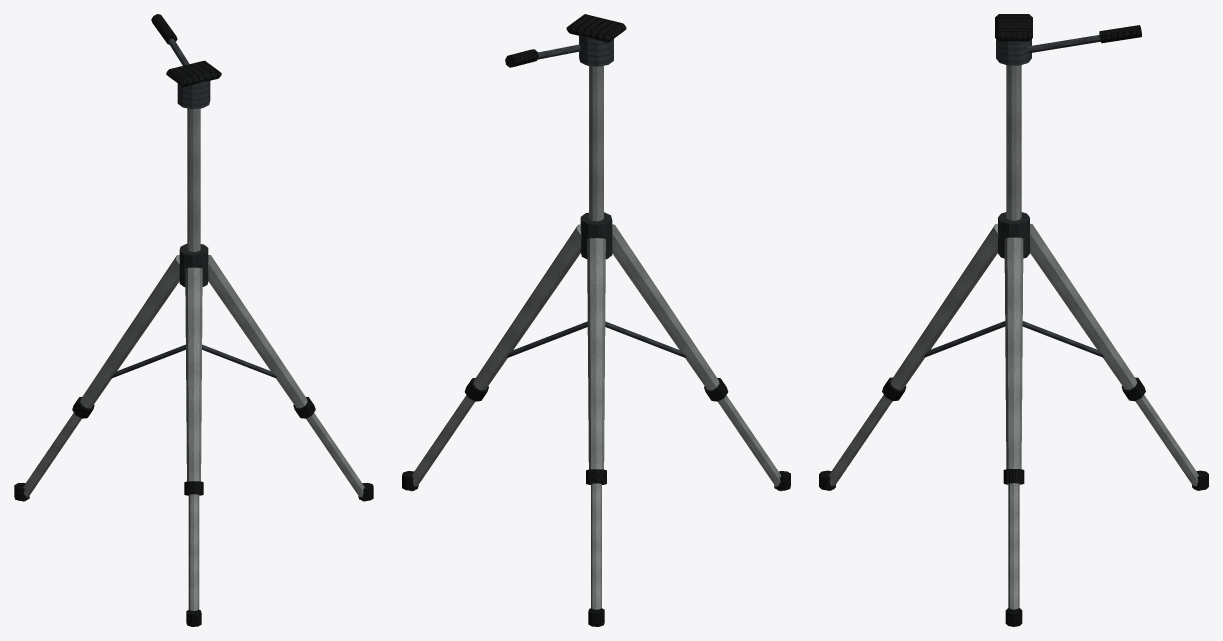
Rendered from blender_tripod_1.glb.
3 views of the same model, side by side, from view 1: azimuth 30°, elevation 25°; view 2: azimuth 150°, elevation 25°; view 3: azimuth 270°, elevation 25° (orthographic). The views are drawn at different scales.
Parts seen in each view (by area): view 1: blender_tripod_1; view 2: blender_tripod_1; view 3: blender_tripod_1.
Boxes of the visible parts, x1,y1,x2,y2 form: blender_tripod_1: (14, 14, 373, 626); blender_tripod_1: (402, 14, 790, 626); blender_tripod_1: (819, 14, 1208, 626).
Size of the model in its own units: 0.36 by 0.609 by 0.4129.
4 materials, 4 textured.
